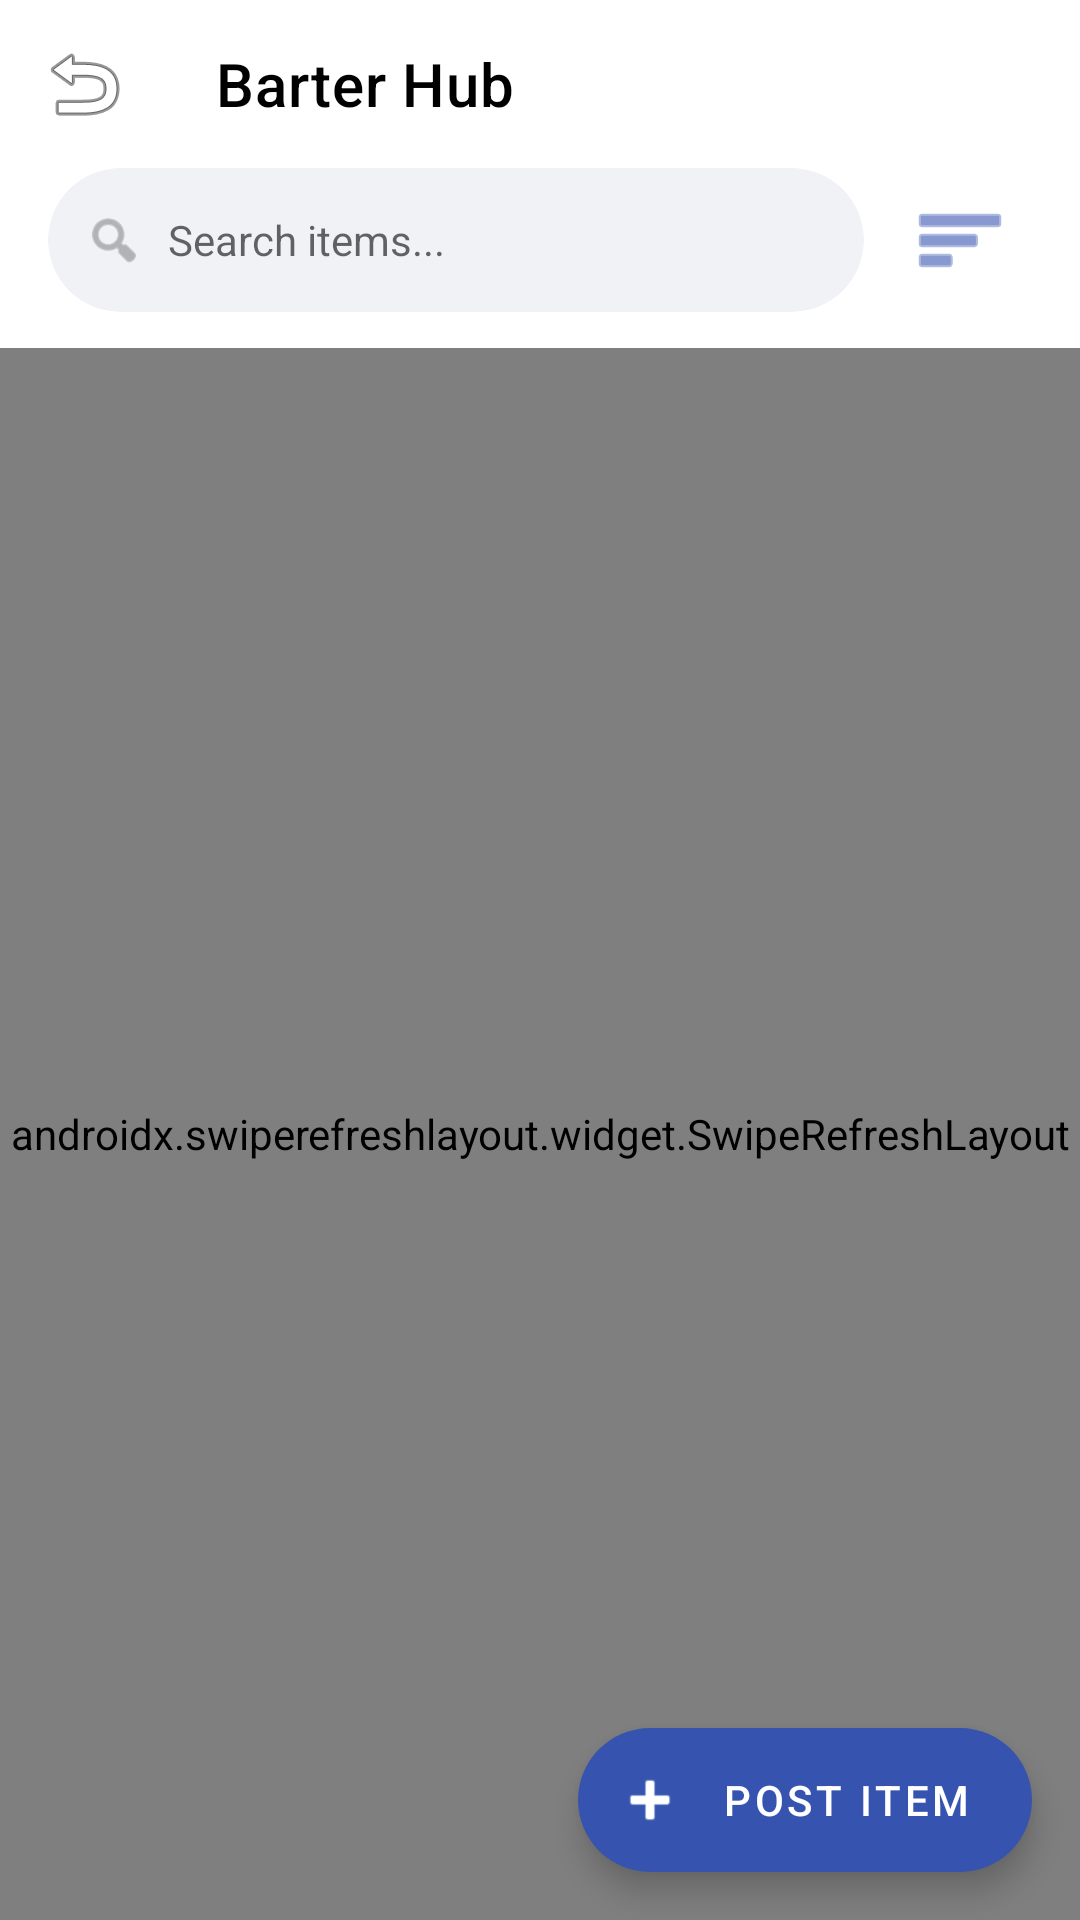

Point at icon controls on the screen. Image size 1080w x 1920h, points as point (x, y).
sort by size: point (960, 240)
